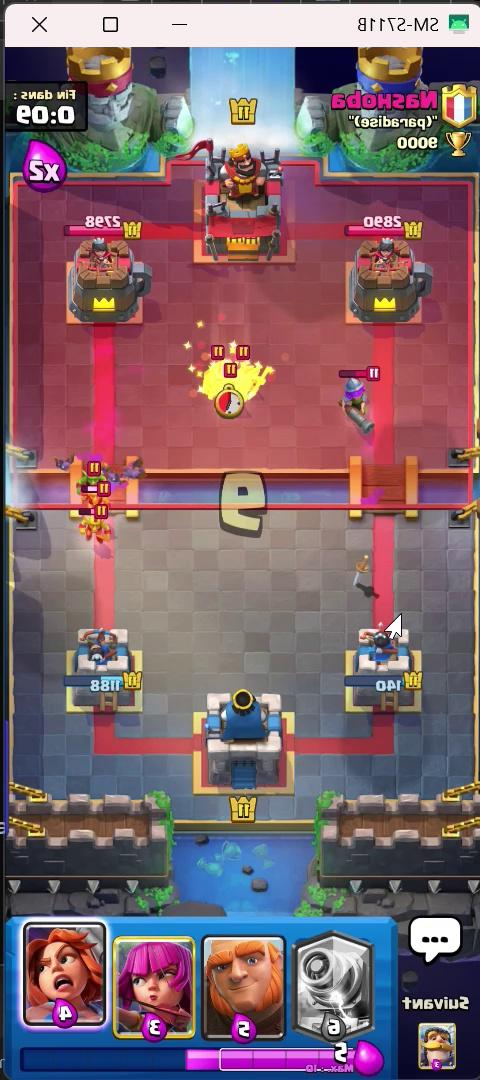bat: (124, 451, 159, 487), (104, 458, 122, 493), (53, 449, 79, 473)
gobelin: (65, 510, 118, 550), (73, 487, 109, 508), (82, 461, 105, 492)
gobelin_lances: (202, 367, 254, 413), (231, 351, 273, 405), (194, 354, 232, 403)
mousquetaire: (324, 361, 381, 455)
